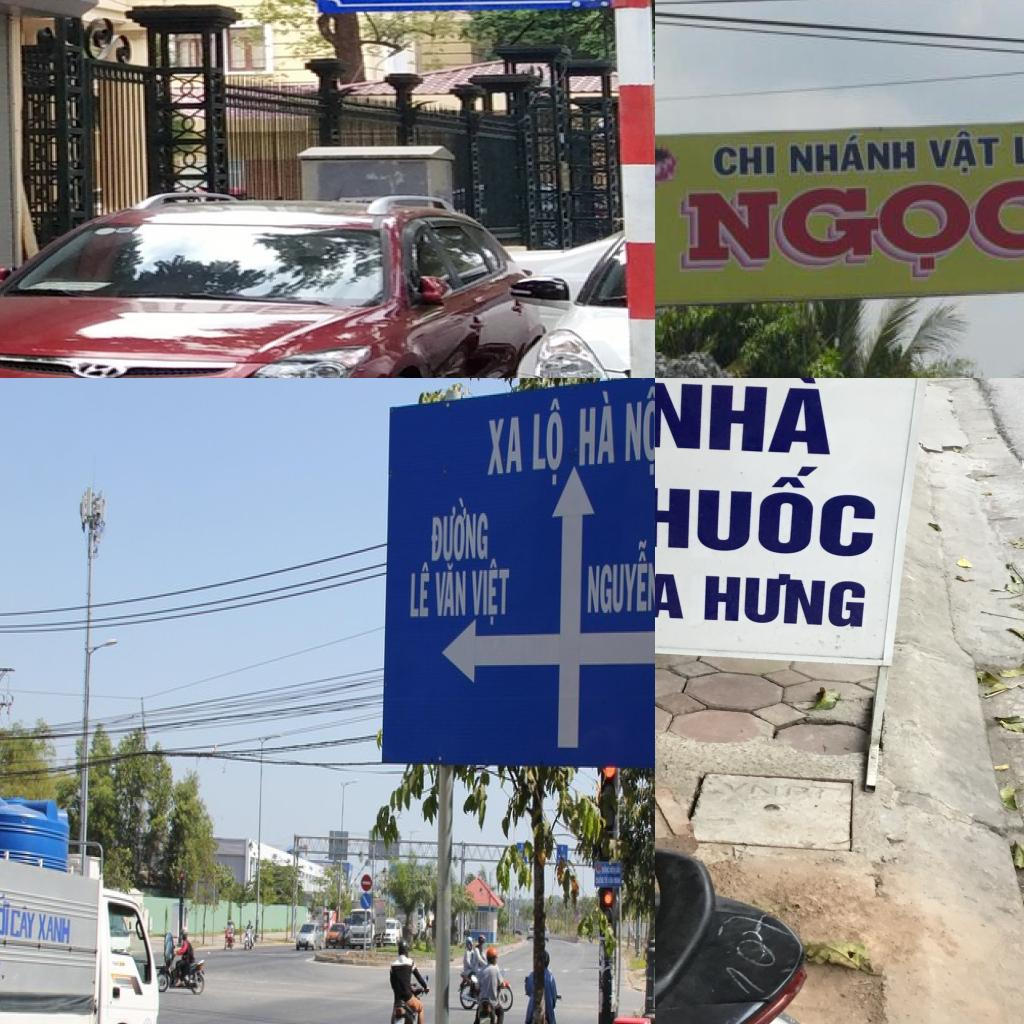text: (676, 174, 1024, 289), (655, 457, 888, 563), (655, 378, 837, 456), (701, 570, 870, 632), (784, 132, 918, 180), (586, 537, 655, 616), (430, 494, 490, 564), (924, 127, 1004, 178), (576, 387, 616, 469), (530, 396, 564, 488), (623, 382, 655, 479), (470, 556, 511, 627), (712, 141, 780, 178), (486, 415, 524, 478), (728, 934, 784, 972), (433, 562, 468, 619), (724, 959, 768, 1000), (655, 568, 686, 620), (410, 561, 431, 619), (37, 912, 72, 946), (9, 903, 39, 941), (722, 778, 780, 796), (0, 889, 13, 938)
